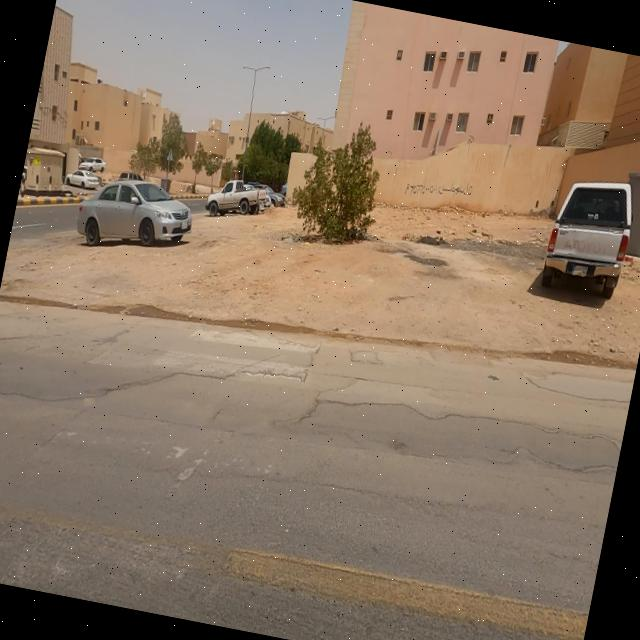Graffiti: (404, 173, 475, 209)
